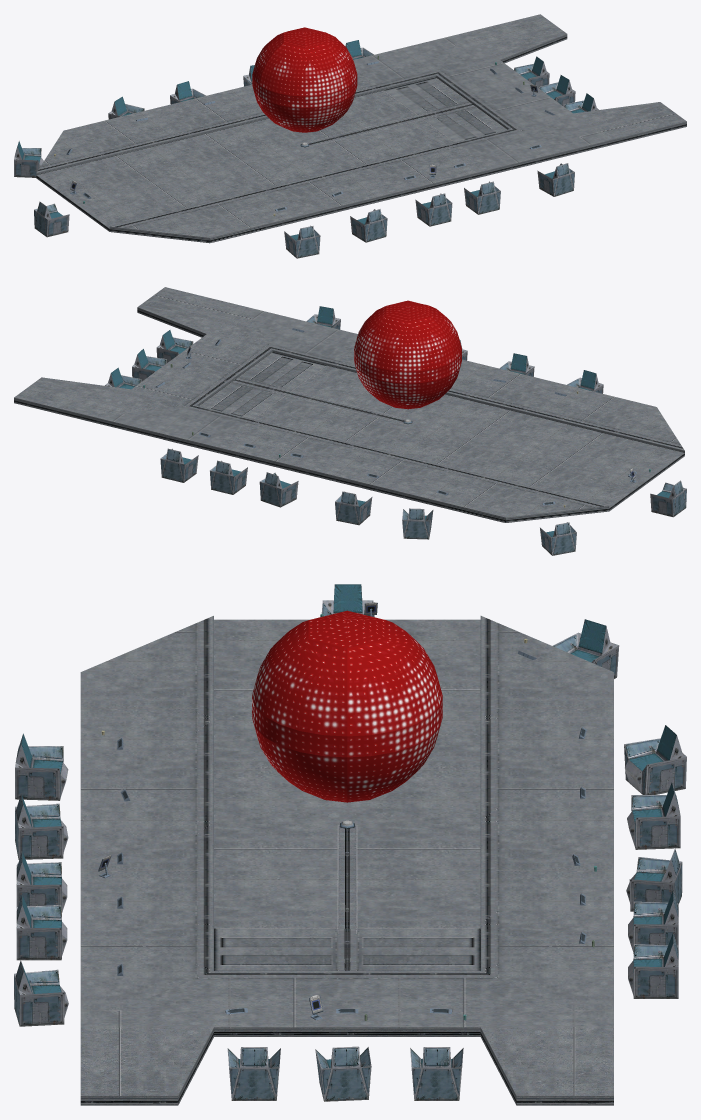
Rendered from frn_impl_table_giant_s01_l1.fbx.
3 views of the same model, one above another, from view 1: azimuth 30°, elevation 25°; view 2: azimuth 150°, elevation 25°; view 3: azimuth 270°, elevation 25° (orthographic). The views are drawn at different scales.
Parts seen in each view (by area): view 1: mesh_node; view 2: mesh_node; view 3: mesh_node.
Part boxes in pixels (left/top/right/bottom): mesh_node: left=14, top=14, right=686, bottom=258; mesh_node: left=14, top=287, right=686, bottom=555; mesh_node: left=14, top=584, right=686, bottom=1105.
Bounding box in the file's own units: 21.2 × 4.81 × 11.85.
